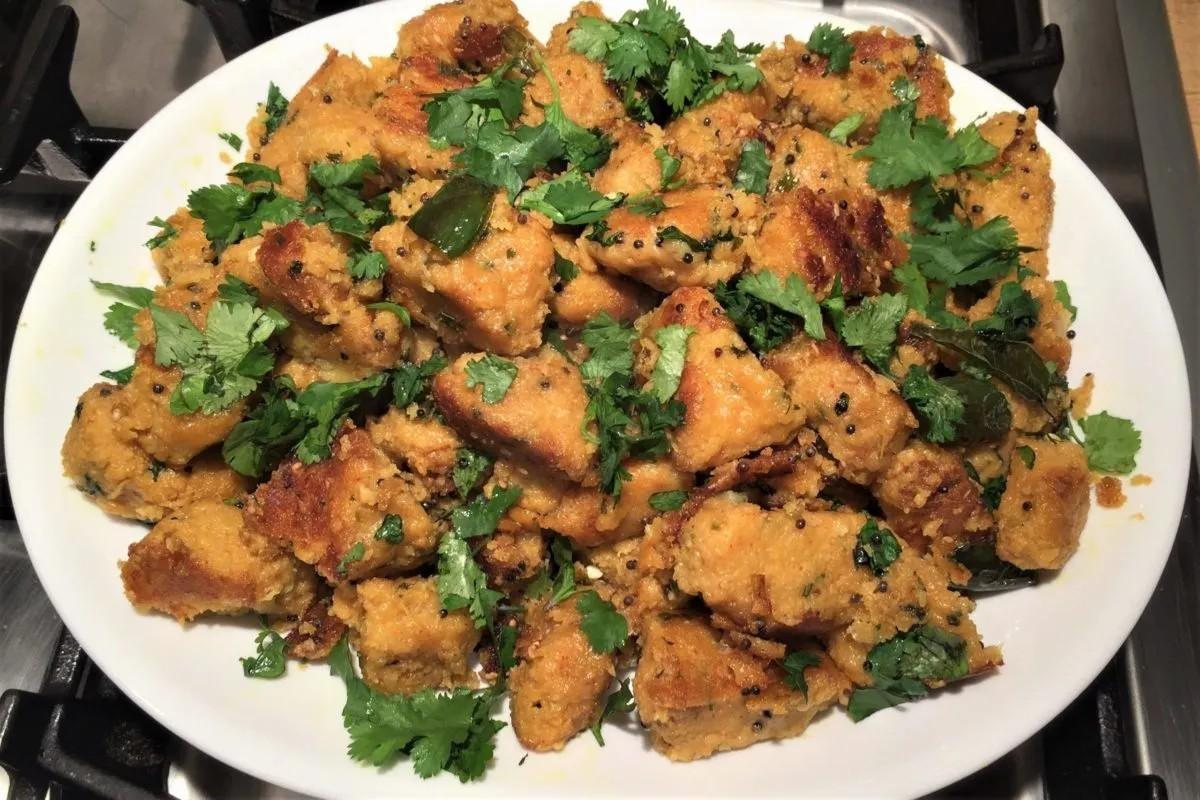AlooMasala: (59, 0, 1150, 784)
